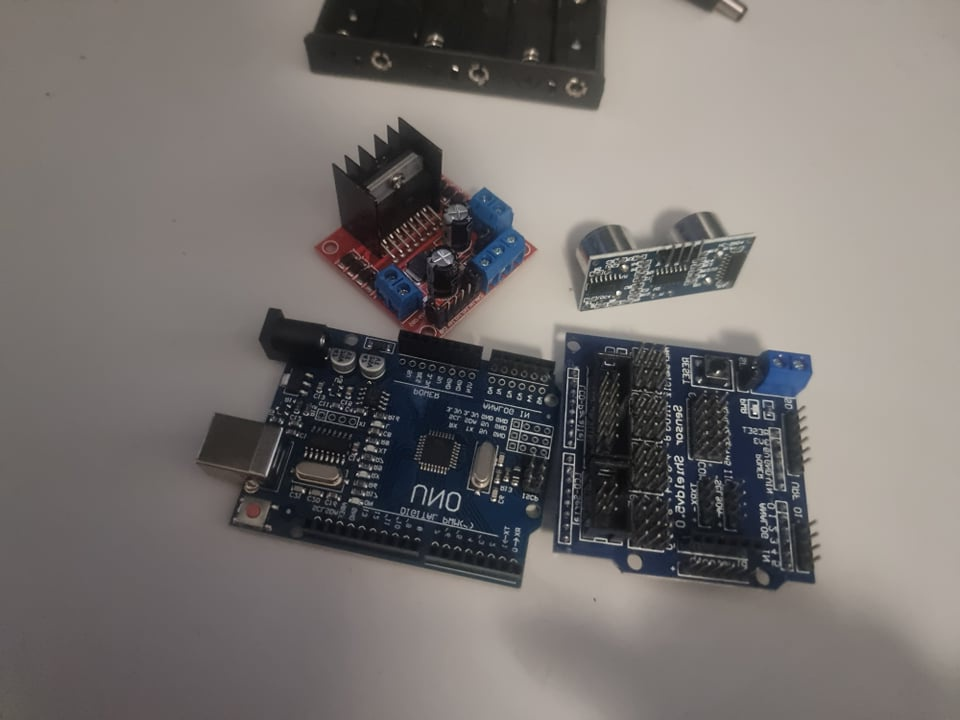5V EXPANSION: (561, 332, 820, 597)
BATTERY BOX: (295, 1, 635, 110)
MOTOR: (312, 117, 541, 335)
SENSOR: (575, 211, 759, 315)
UNO R3: (191, 303, 558, 596)
